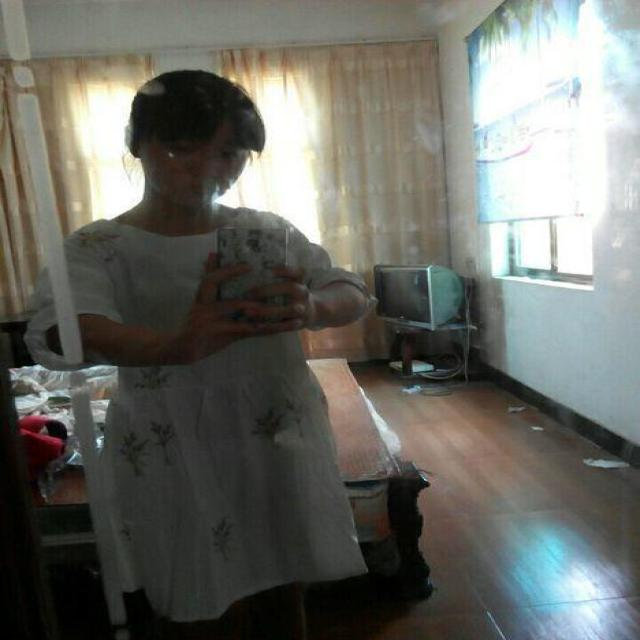long sleeve dress: (27, 209, 379, 594)
